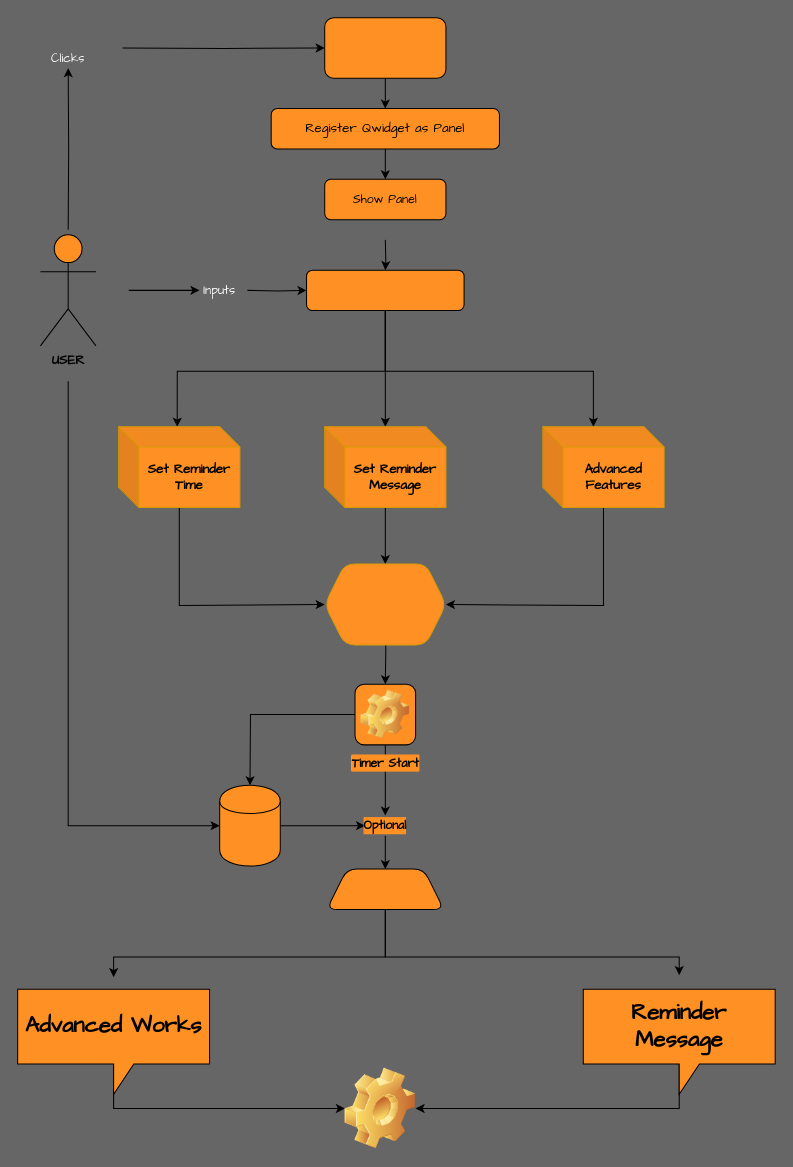
Image size: 793x1167. Some labels were removed from this diagram. Each missing label, with the box of its shape:
Added Redminder: (324, 563, 446, 645)
Delete: (219, 784, 280, 866)
END TIME: (326, 868, 444, 910)
Set New Reminder: (306, 269, 464, 311)
START: (324, 17, 446, 78)
